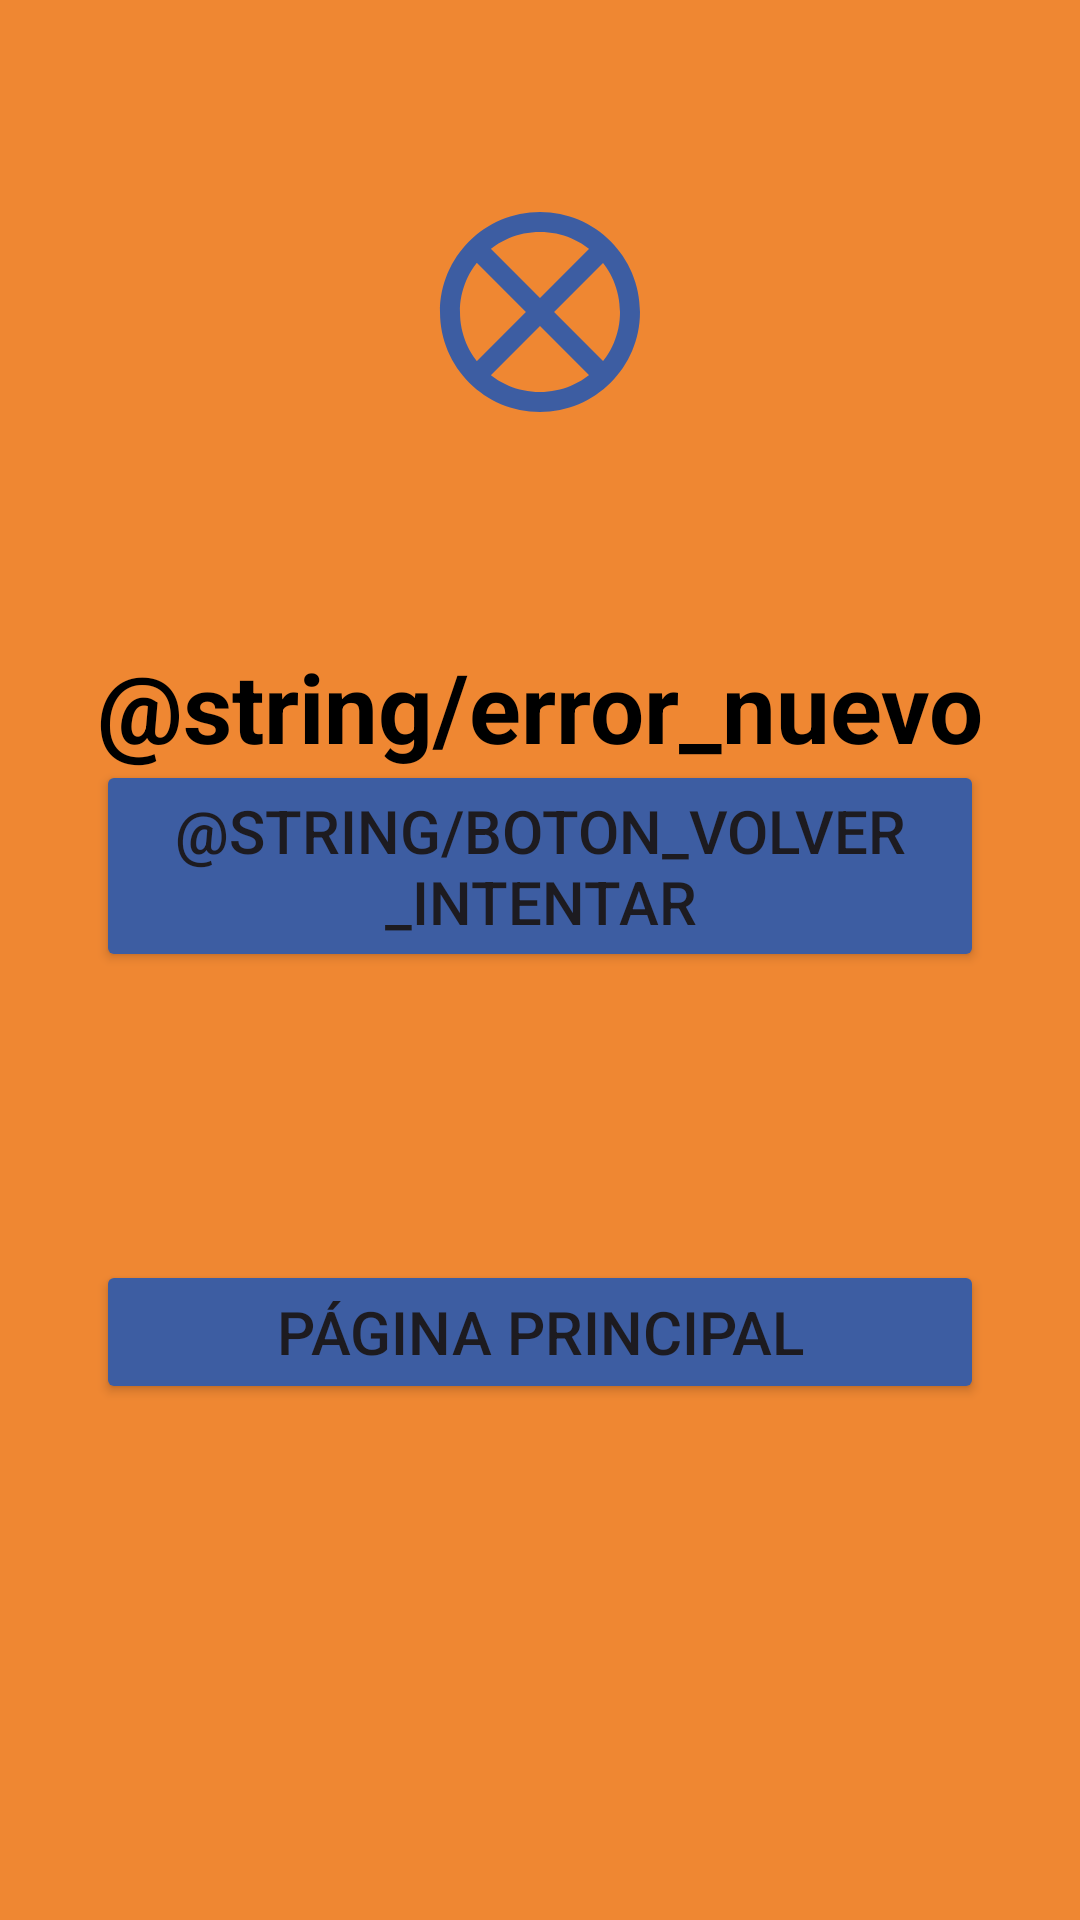

Screen size 1080×1920. Icon name, then its box in pixels as (x1, y1, x2, y2):
error circle: (440, 212, 640, 412)
